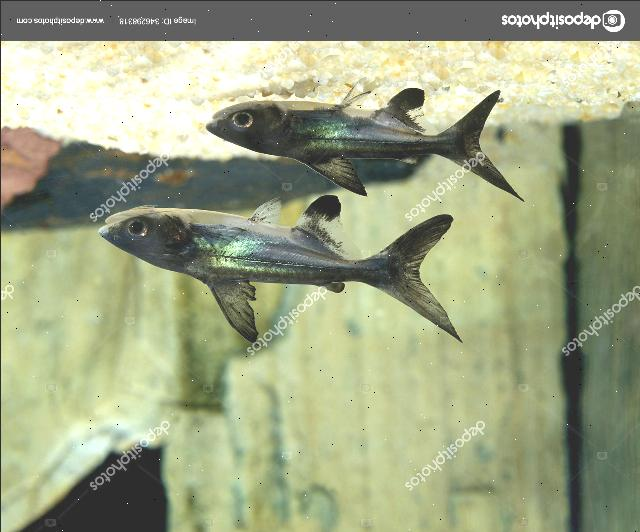Mulut: (92, 202, 148, 240), (200, 102, 246, 134)
Sirip Anal: (292, 193, 362, 269), (384, 83, 440, 140)
Sirip Dada: (187, 219, 243, 252), (280, 104, 334, 126)
Sirip Ekor: (368, 203, 466, 360), (450, 85, 528, 210)
Sirip Perut: (335, 72, 375, 118), (246, 195, 288, 233)
Sirip Punggung: (191, 268, 269, 354), (298, 143, 372, 199)
